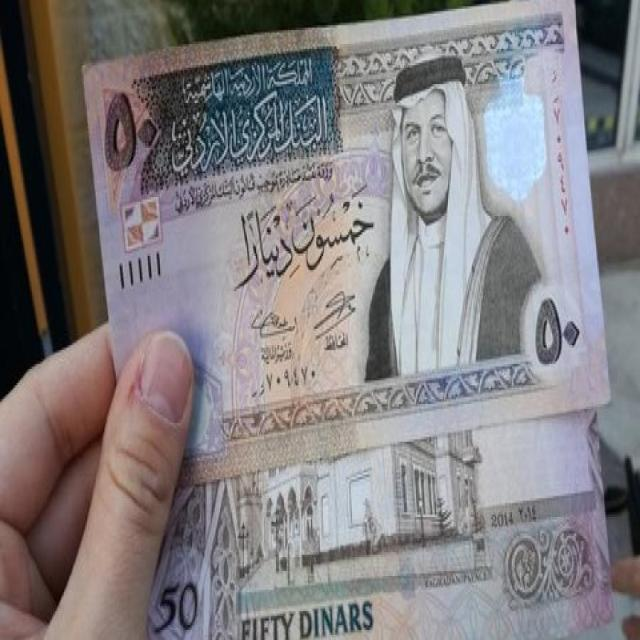50-dinar: (78, 0, 620, 491), (59, 402, 619, 640)
